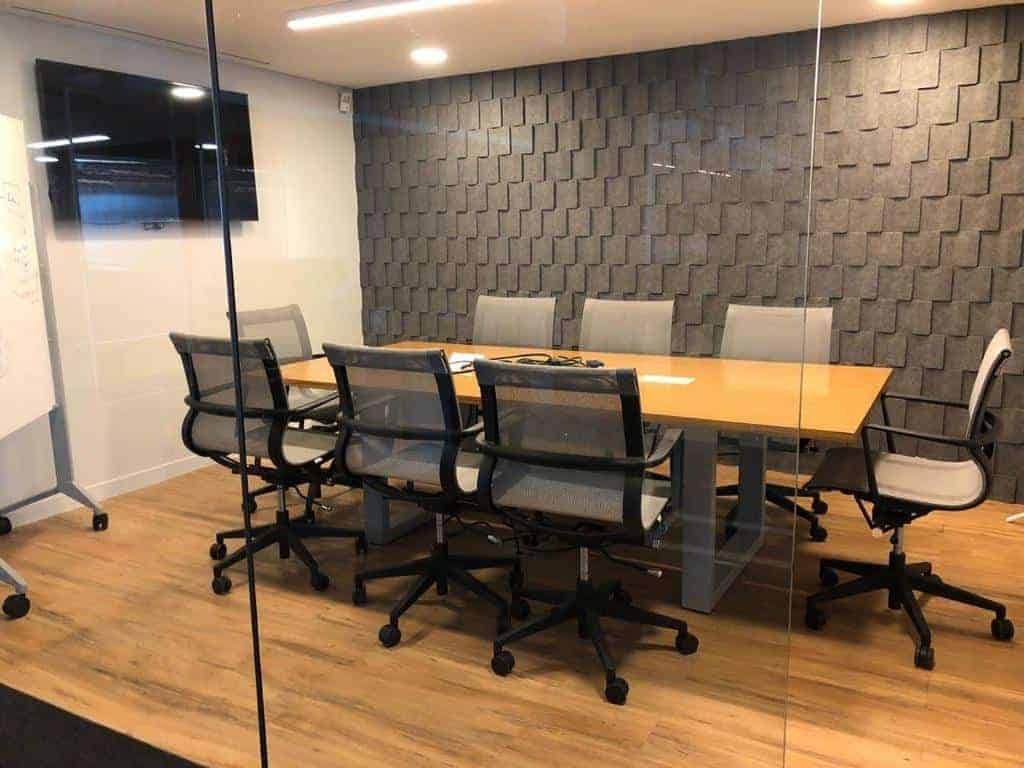conference_table: (264, 341, 893, 616)
